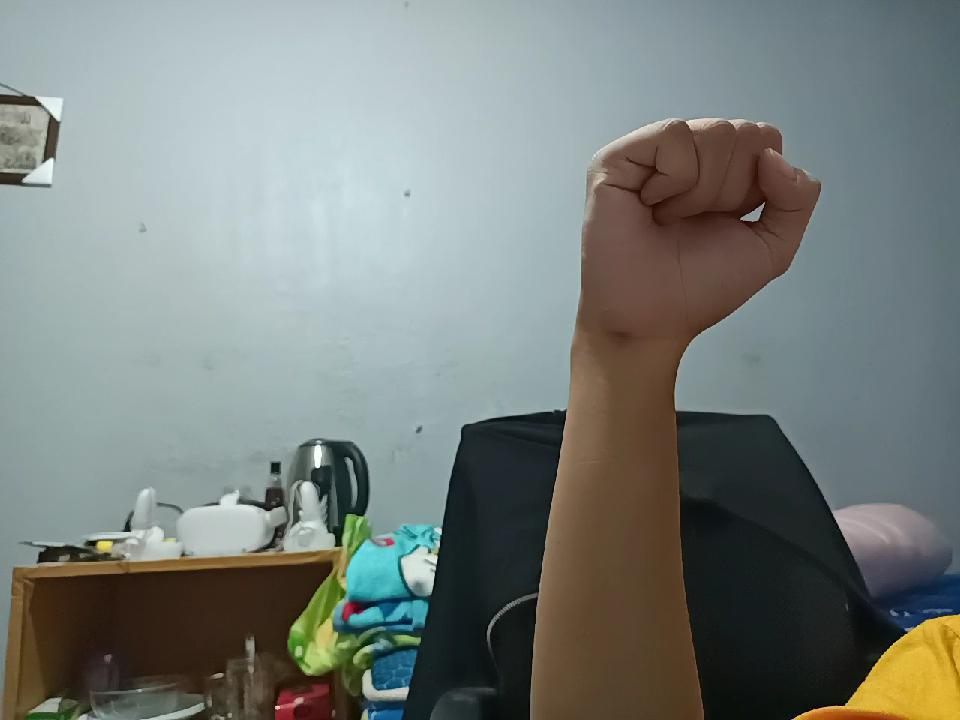rock: (580, 107, 818, 348)
